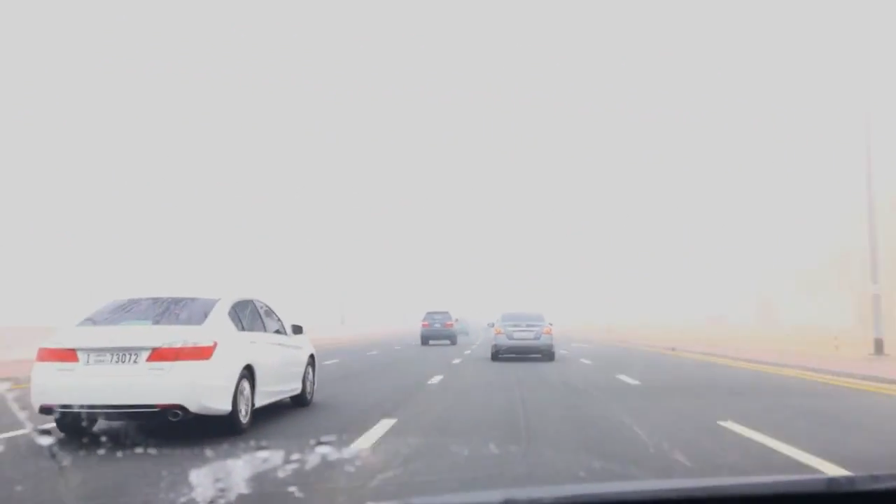car: (29, 291, 317, 442), (487, 310, 558, 363), (419, 310, 458, 346), (448, 317, 470, 335)
